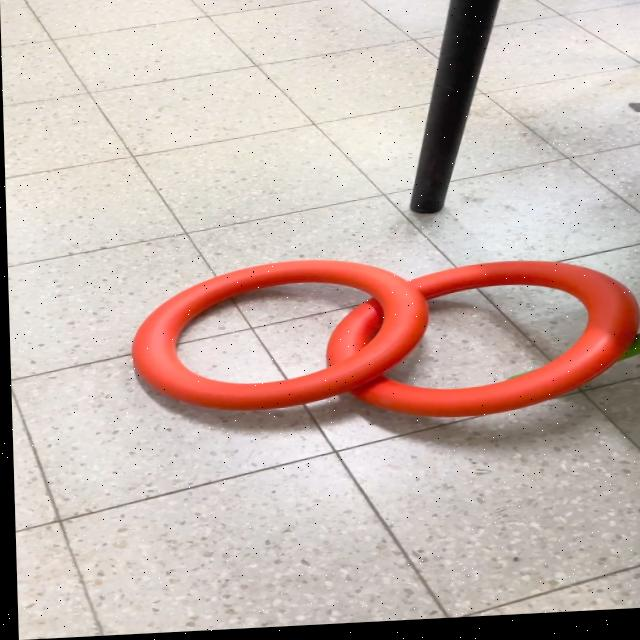note: (318, 256, 640, 430), (121, 256, 432, 421)
